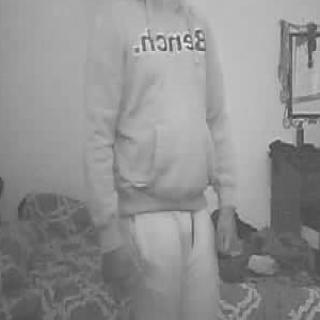White Sweatpants: (130, 206, 218, 320)
Yellow Hoodie: (86, 0, 228, 208)
